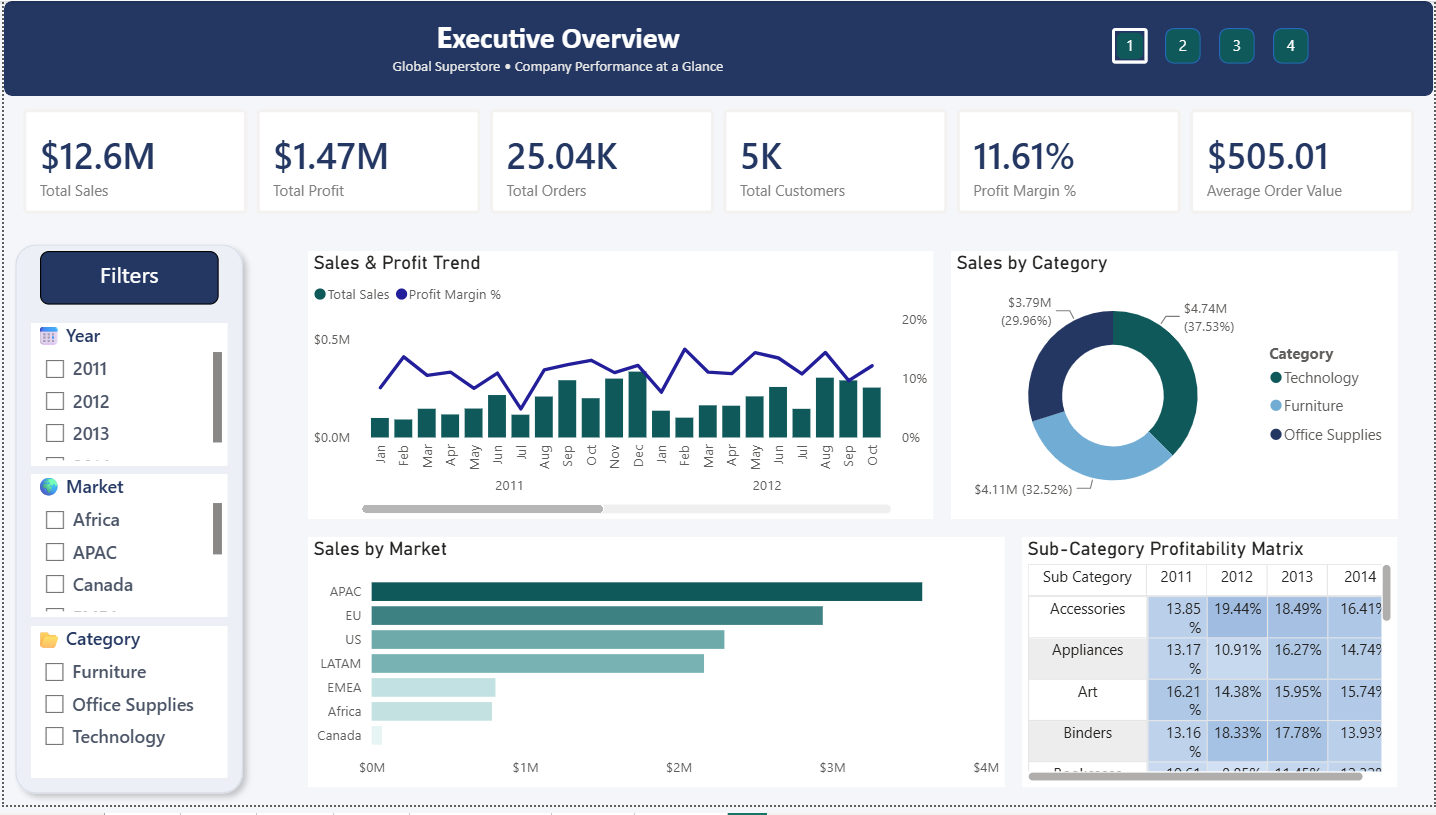

The page's visual inventory and layout, read from the dashboard file:
{"tool":"powerbi","page":{"name":"Page 1","canvas":[1280,720],"ordinal":0},"visuals":[{"type":"cardVisual","fields":{"Data":["Measures (2).Total Sales","Measures (2).Total Profit","Measures (2).Total Orders","Measures (2).Total Customers","Measures (2).Profit Margin %","Measures (2).Average Order Value"]},"box":[0,80,1280,128],"z":0},{"type":"lineStackedColumnComboChart","title":"Sales & Profit Trend","fields":{"Category":["Calendar.Year","Calendar.Month"],"Y":["Measures (2).Total Sales"],"Y2":["Measures (2).Profit Margin %"]},"box":[272,224,560,240],"z":1000},{"type":"shape","box":[0,0,1280,85],"z":2000},{"type":"textbox","box":[16,8,960,72],"z":3000},{"type":"shape","title":"1","box":[1136,24,32,32],"z":4000},{"type":"shape","title":"1","box":[1088,24,32,32],"z":5000},{"type":"shape","title":"1","box":[1040,24,32,32],"z":6000},{"type":"shape","box":[0,208,224,512],"z":7000},{"type":"shape","title":"1","box":[992,24,32,32],"z":8000},{"type":"donutChart","title":"Sales by Category","fields":{"Category":["superstore.Category"],"Y":["Measures (2).Total Sales"]},"box":[848,224,400,240],"z":9000},{"type":"clusteredBarChart","title":"Sales by Market","fields":{"Y":["Measures (2).Total Sales"],"Category":["superstore.Market"]},"box":[272,480,624,224],"z":10000},{"type":"pivotTable","title":"Sub-Category Profitability Matrix","fields":{"Rows":["superstore.Sub Category"],"Columns":["Calendar.Year"],"Values":["Measures (2).Profit Margin %"]},"box":[912,480,336,224],"z":11000},{"type":"textbox","box":[32,224,160,48],"z":12000},{"type":"slicer","title":"📂 Category","fields":{"Values":["superstore.Category"]},"box":[24,560,176,136],"z":13000},{"type":"slicer","title":"🌍 Market","fields":{"Values":["superstore.Market"]},"box":[24,424,176,128],"z":14000},{"type":"slicer","title":"📅 Year","fields":{"Values":["Calendar.Year"]},"box":[24,288,176,128],"z":15000},{"type":"actionButton","box":[1040,24,32,32],"z":22000},{"type":"actionButton","box":[1088,24,32,32],"z":22500},{"type":"actionButton","box":[1136,24,32,32],"z":23500}]}

Visuals, with their boxes in screenshot pixels (x1, y1, x2, y2), scaled from the page's 1280x720 canvas onto the 1436x815 screenshot:
cardVisual - Measures (2).Total Sales x Measures (2).Total Profit: box=[0, 91, 1435, 235]
"Sales & Profit Trend" lineStackedColumnComboChart: box=[305, 254, 933, 525]
shape: box=[0, 0, 1435, 96]
textbox: box=[18, 9, 1095, 91]
"1" shape: box=[1274, 27, 1310, 63]
"1" shape: box=[1221, 27, 1256, 63]
"1" shape: box=[1167, 27, 1203, 63]
shape: box=[0, 235, 251, 814]
"1" shape: box=[1113, 27, 1149, 63]
"Sales by Category" donutChart: box=[951, 254, 1400, 525]
"Sales by Market" clusteredBarChart: box=[305, 543, 1005, 797]
"Sub-Category Profitability Matrix" pivotTable: box=[1023, 543, 1400, 797]
textbox: box=[36, 254, 215, 308]
"📂 Category" slicer: box=[27, 634, 224, 788]
"🌍 Market" slicer: box=[27, 480, 224, 625]
"📅 Year" slicer: box=[27, 326, 224, 471]
actionButton: box=[1167, 27, 1203, 63]
actionButton: box=[1221, 27, 1256, 63]
actionButton: box=[1274, 27, 1310, 63]
